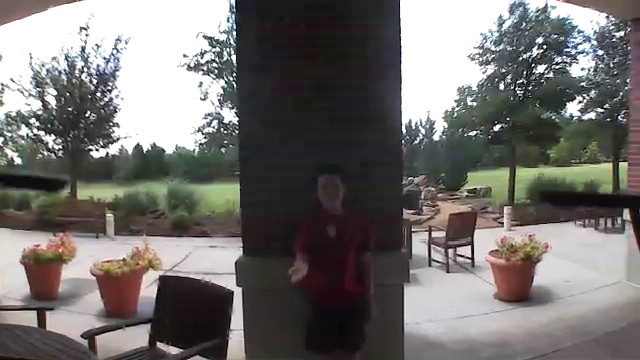land: (281, 258, 312, 284)
